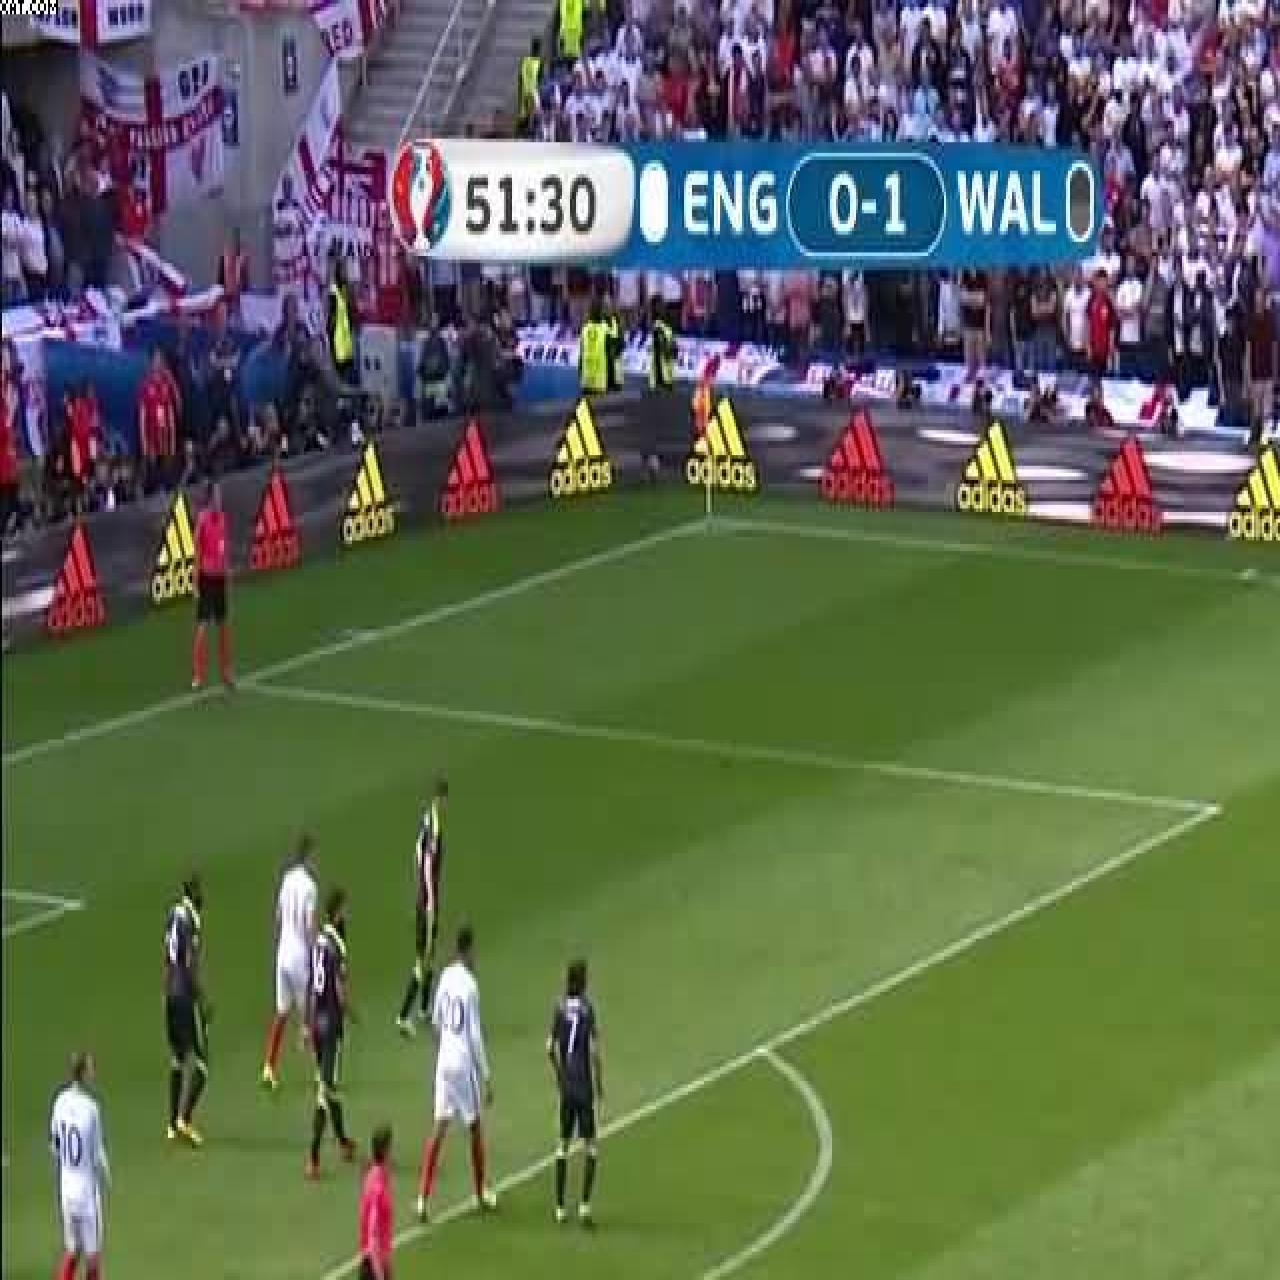football: (416, 924, 496, 1222), (395, 777, 454, 1039), (46, 1045, 110, 1280), (547, 958, 603, 1226), (261, 837, 321, 1087), (305, 885, 357, 1171), (164, 872, 211, 1150), (191, 478, 236, 690), (350, 1123, 404, 1280)
